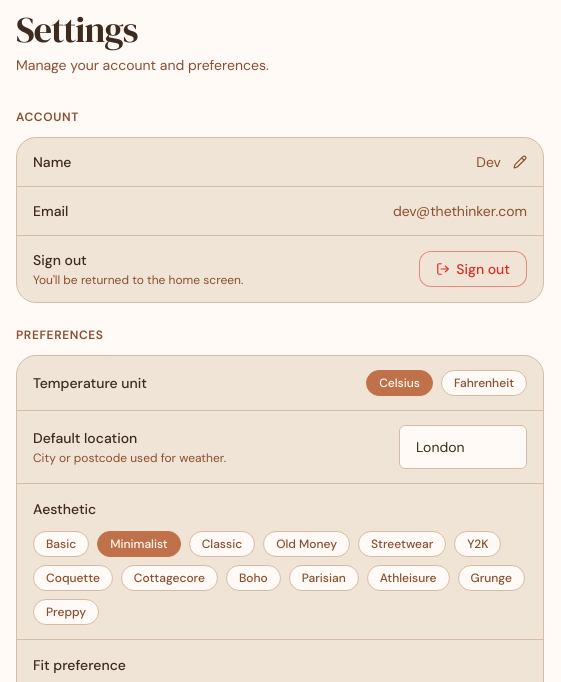
Test: SettingsPage aesthetic preference (KAN-92) › saves a new aesthetic, merging into existing answers without dropping them
Click the button "Streetwear". click: (402, 544)
box: [358,530,446,556]
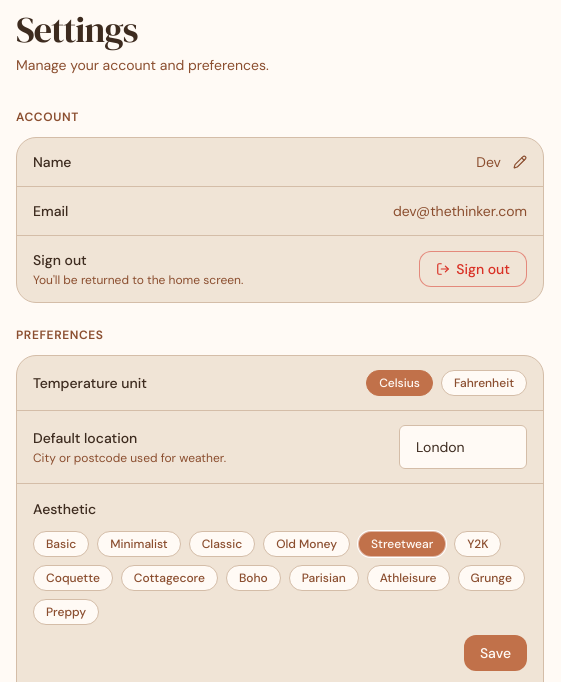
Note: Only tapping Save persists it.
Click the button "Save". click: (495, 652)
box: [464,634,527,670]
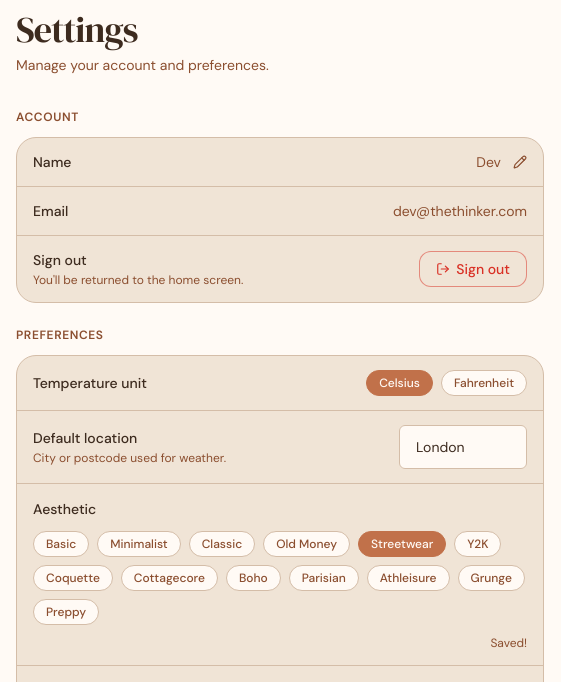
Check: the text "Saved!" is shown, box [490,634,527,650]
